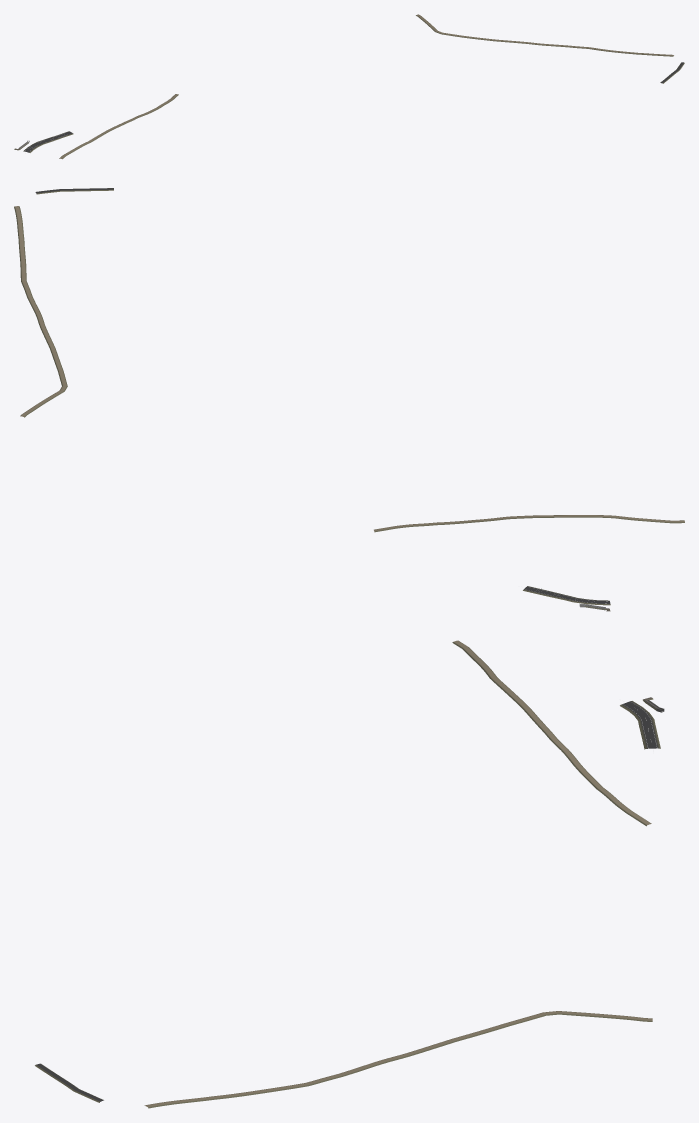
The picture shows the model from 3 angles, top to bottom: view 1: azimuth 30°, elevation 25°; view 2: azimuth 150°, elevation 25°; view 3: azimuth 270°, elevation 25°; orthographic projection. The views are drawn at different scales.
Parts seen in each view (by area): view 1: roads; view 2: roads; view 3: roads.
Boxes of the visible parts, x1,y1,x2,y2 form: roads: [14, 14, 684, 159]; roads: [14, 188, 684, 611]; roads: [35, 640, 660, 1108].
Size of the model in its own units: 806 by 83.51 by 408.
